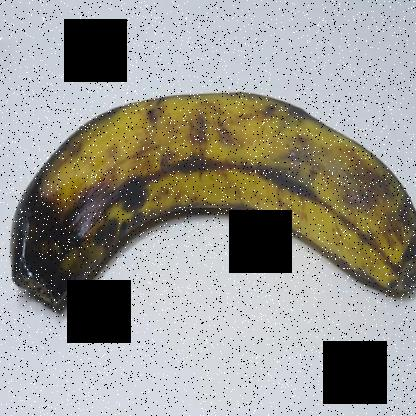overripe: (2, 69, 415, 361)
rotten: (0, 170, 135, 326)
